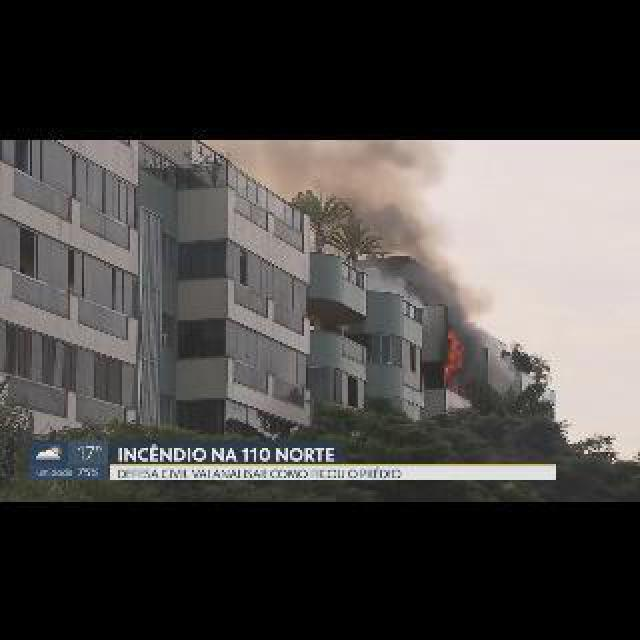fire: (225, 142, 483, 326)
smoke: (442, 328, 464, 384)
